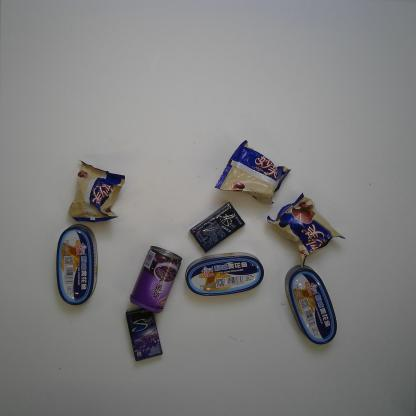Canned Food: (284, 264, 338, 346), (129, 246, 183, 314), (184, 251, 264, 296), (56, 224, 98, 306)
Dessert: (266, 192, 347, 268), (214, 140, 292, 207), (68, 159, 126, 223)
Gum: (189, 201, 246, 254), (125, 308, 163, 362)
